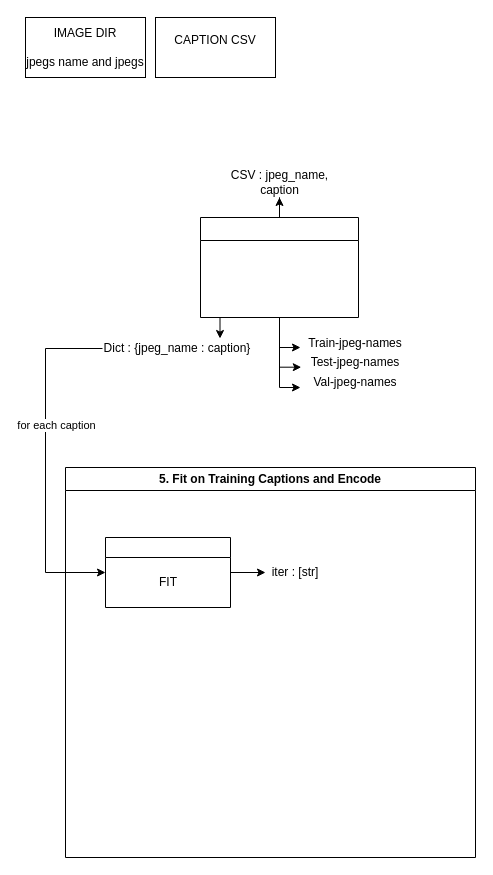
Image size: 493x875. Some labels were removed from this diagram. Here are the shapes that lost their labels. From the top down, the box of each, then its label:
(200, 216, 358, 318): 4 . Caption Split By Image
(104, 536, 230, 608): Caption Tokeniser
